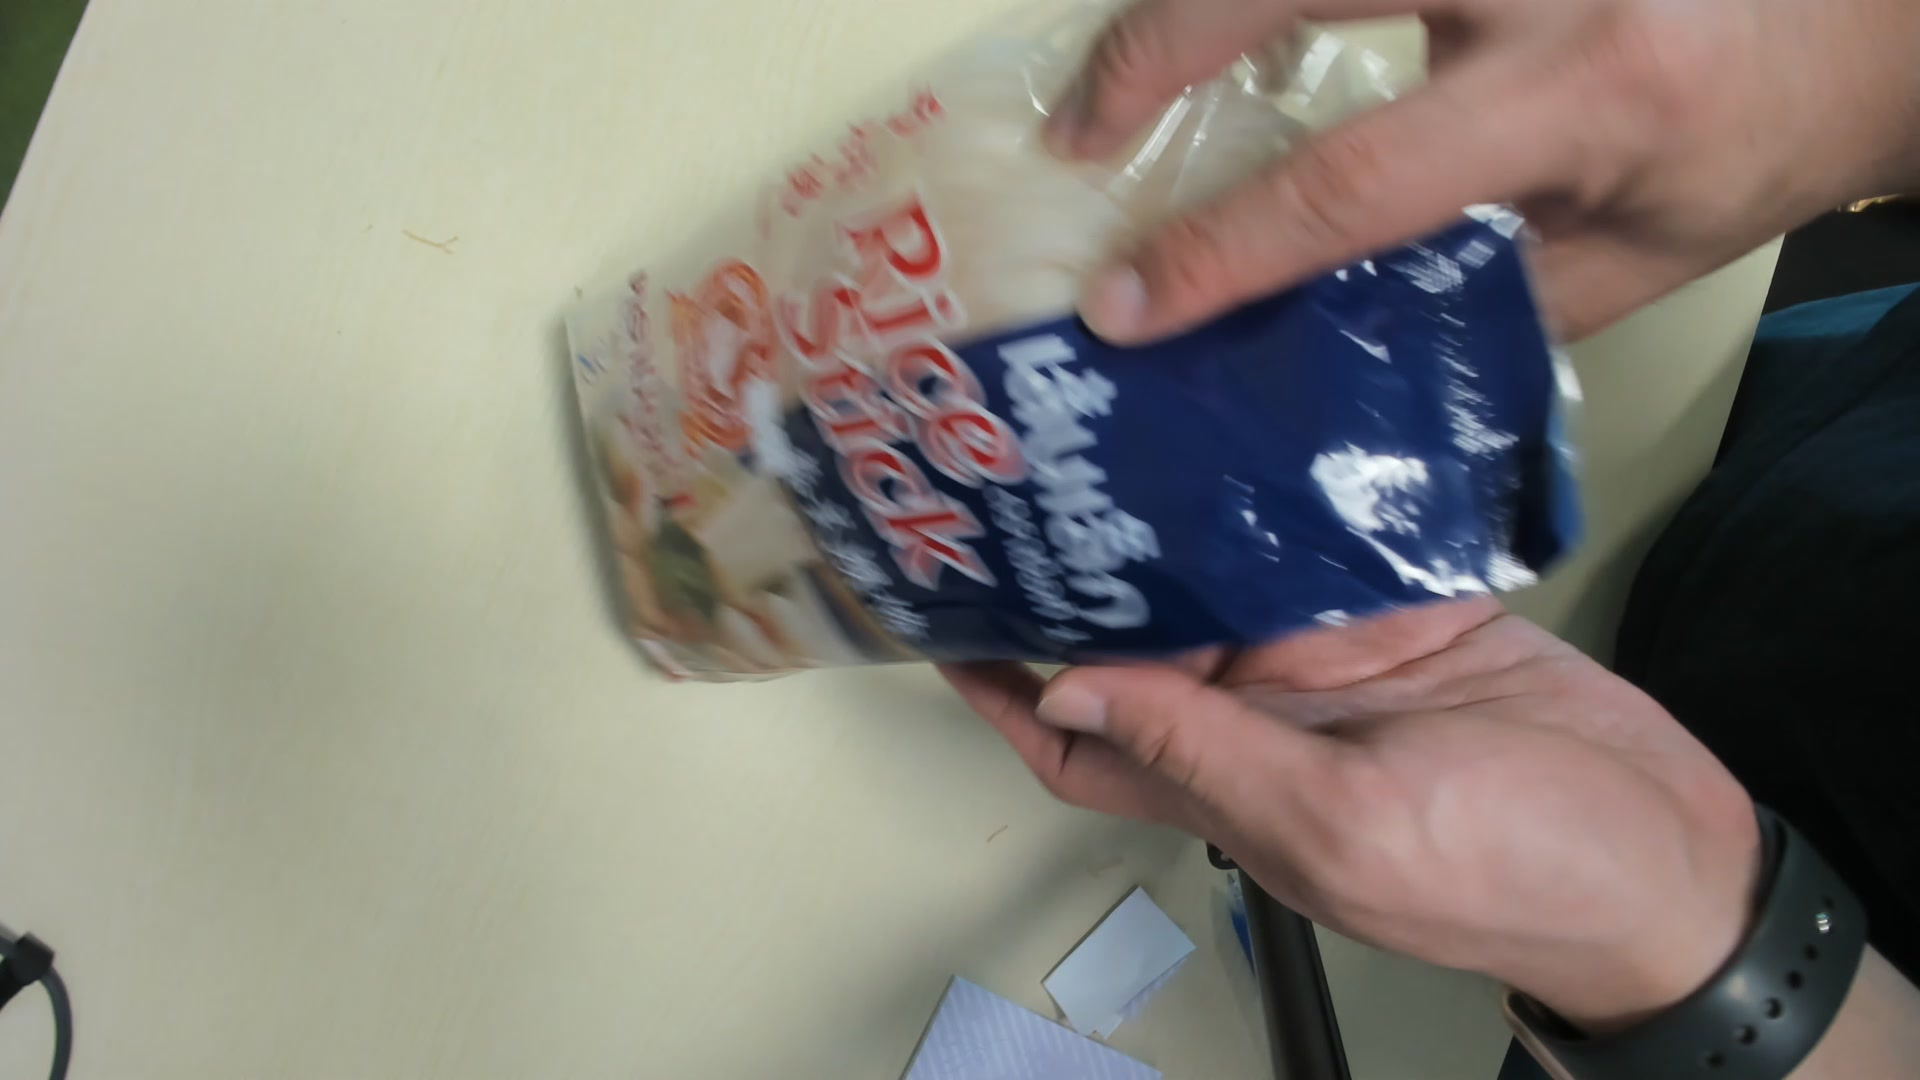OtherNoodles_400-499g_Halal_NonHealthy: (567, 36, 1571, 679)
